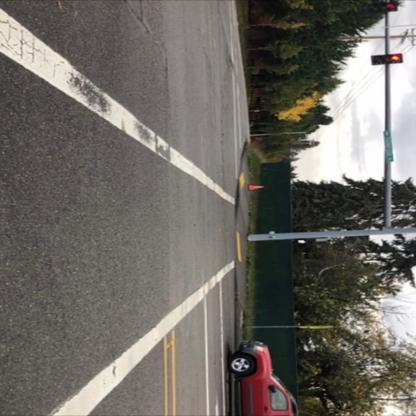Walk: (295, 238, 313, 250)
